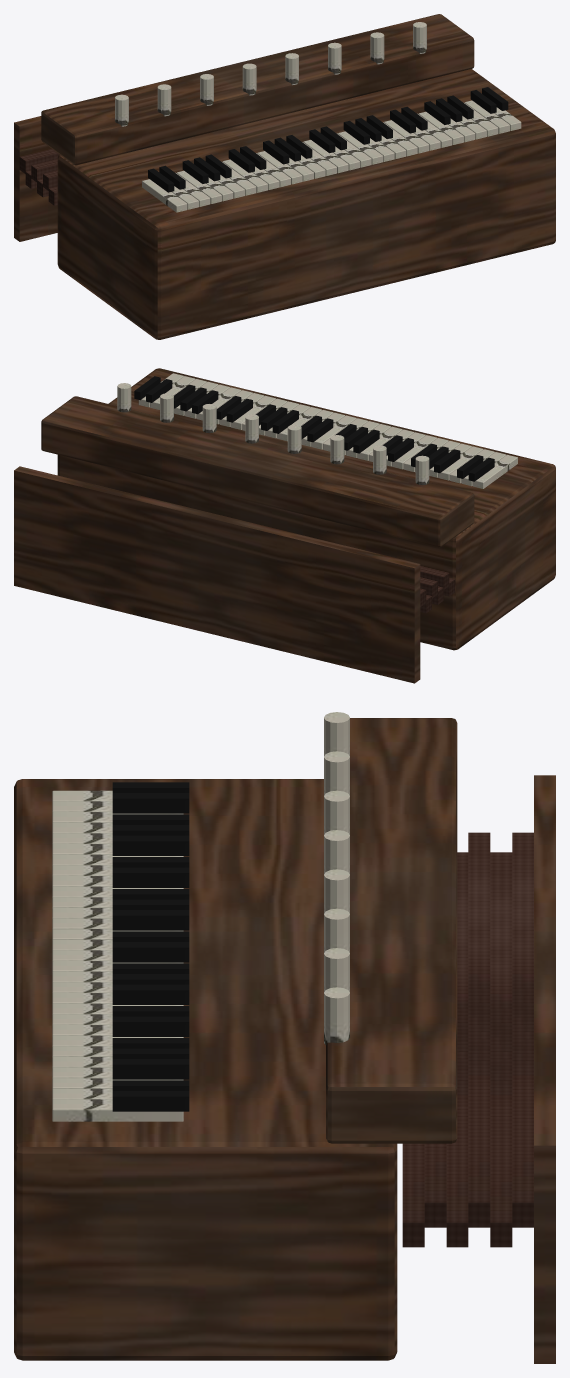
The model's file is MU01_Harmonium.glb.
3 renders of one model, top to bottom at view 1: azimuth 30°, elevation 25°; view 2: azimuth 150°, elevation 25°; view 3: azimuth 270°, elevation 25°, orthographic. The views are drawn at different scales.
Parts seen in each view (by area): view 1: MU01_Harmonium; view 2: MU01_Harmonium; view 3: MU01_Harmonium.
Part boxes in pixels (x1=…): MU01_Harmonium: x1=14, y1=14, x2=555, y2=339; MU01_Harmonium: x1=14, y1=368, x2=555, y2=683; MU01_Harmonium: x1=14, y1=712, x2=555, y2=1363.
Size of the model in its own units: 0.8 by 0.325 by 0.495.
4 materials, 4 textured.
